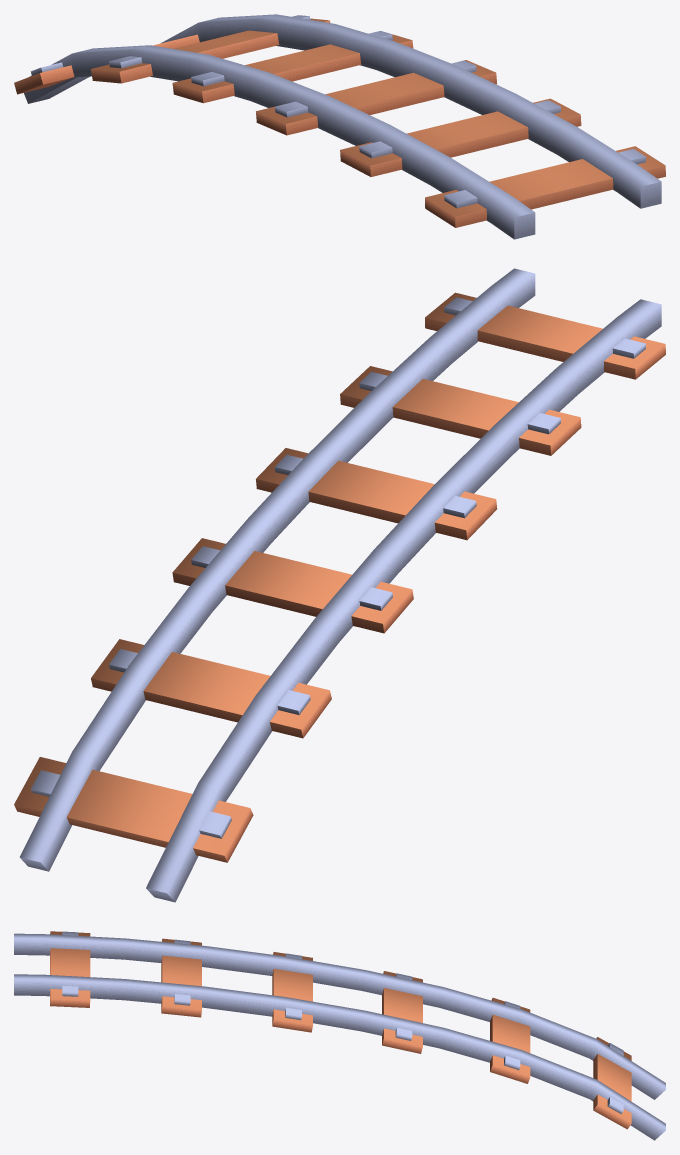
File: railroad-straight-hill-end.glb
3 views of the same model, one above another, from view 1: azimuth 30°, elevation 25°; view 2: azimuth 150°, elevation 25°; view 3: azimuth 270°, elevation 25° (orthographic). The views are drawn at different scales.
Parts seen in each view (by area): view 1: railroad-straight-hill-end; view 2: railroad-straight-hill-end; view 3: railroad-straight-hill-end.
Boxes of the visible parts, x1,y1,x2,y2 form: railroad-straight-hill-end: (14, 14, 665, 239); railroad-straight-hill-end: (14, 268, 665, 902); railroad-straight-hill-end: (14, 931, 665, 1140).
Bounding box in the file's own units: 0.9998 × 1.1 × 4.07.
Materials: 1 (1 with a texture image).
